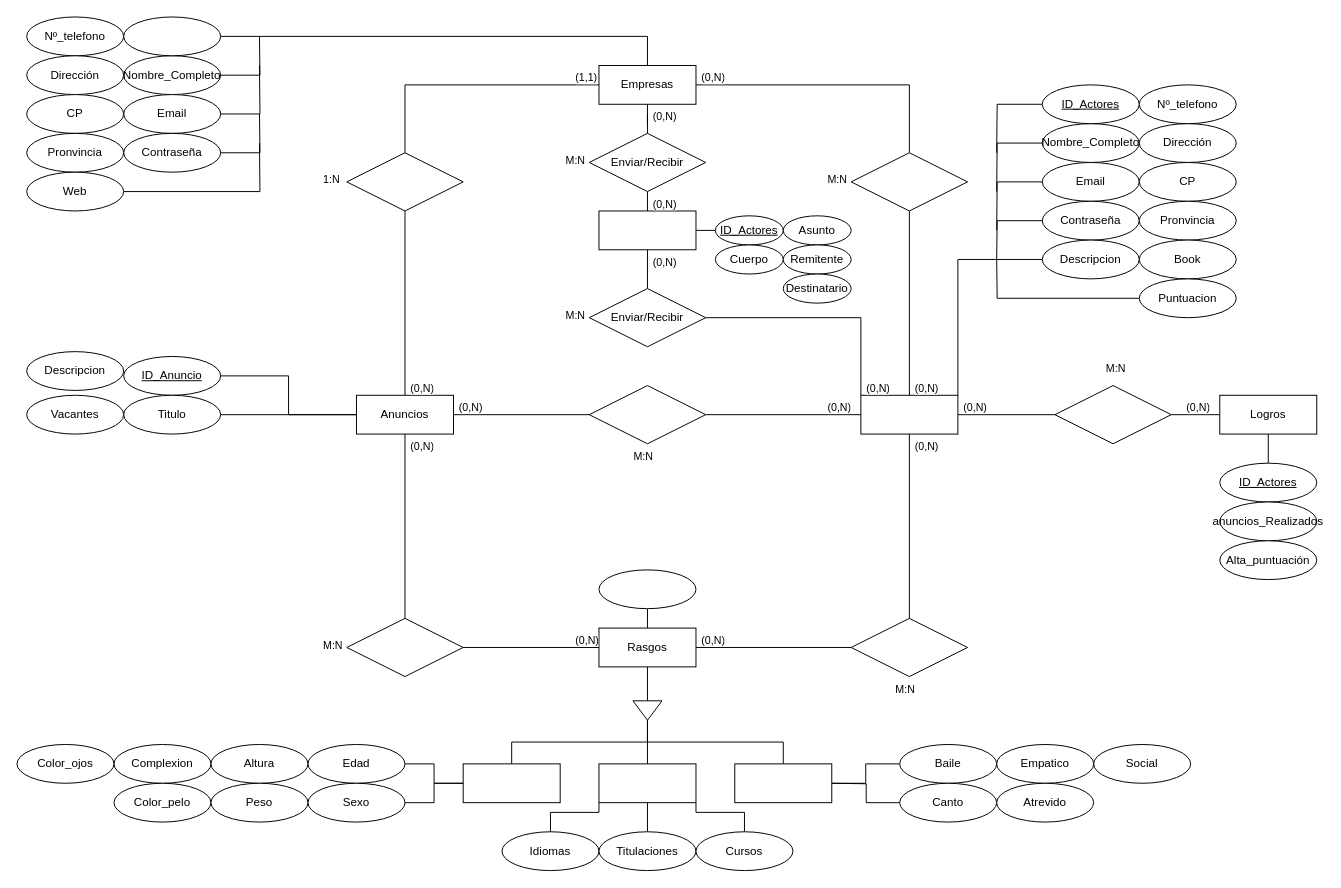
Some shapes in this 1341 by 888 pixel diagram are drawn without their labels. Each missing label, with the centre of its shape:
"Actores" goes at point (909, 414).
"Aptitudes" goes at point (783, 783).
"Contratar" goes at point (909, 181).
"Elegir" goes at point (909, 647).
"Estudios" goes at point (647, 783).
"Fisicos" goes at point (511, 783).
"ID_Empresa" goes at point (172, 36).
"ID_Rasgo" goes at point (647, 589).
"Incluir" goes at point (404, 647).
"Notificaciones" goes at point (647, 230).
"Obtener" goes at point (1112, 414).
"Participar" goes at point (647, 414).
"Publicar" goes at point (404, 181).
